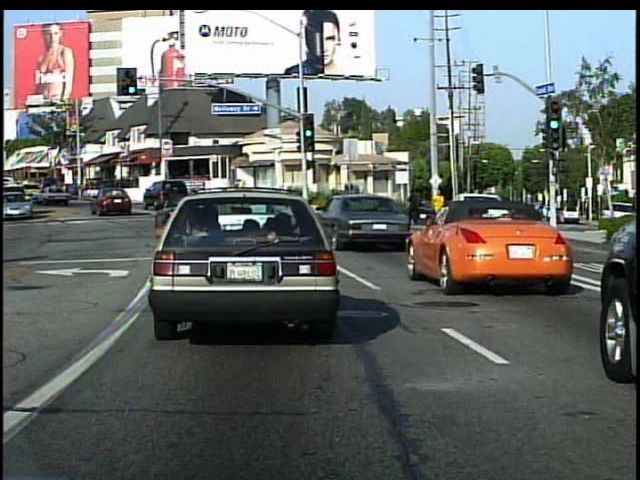person: (429, 187, 448, 226), (405, 188, 423, 229)
